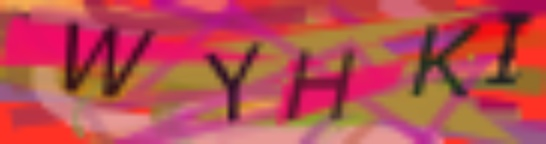H: (280, 43, 361, 125)
I: (483, 9, 535, 89)
K: (410, 20, 483, 100)
W: (57, 18, 159, 99)
Y: (201, 39, 263, 127)
